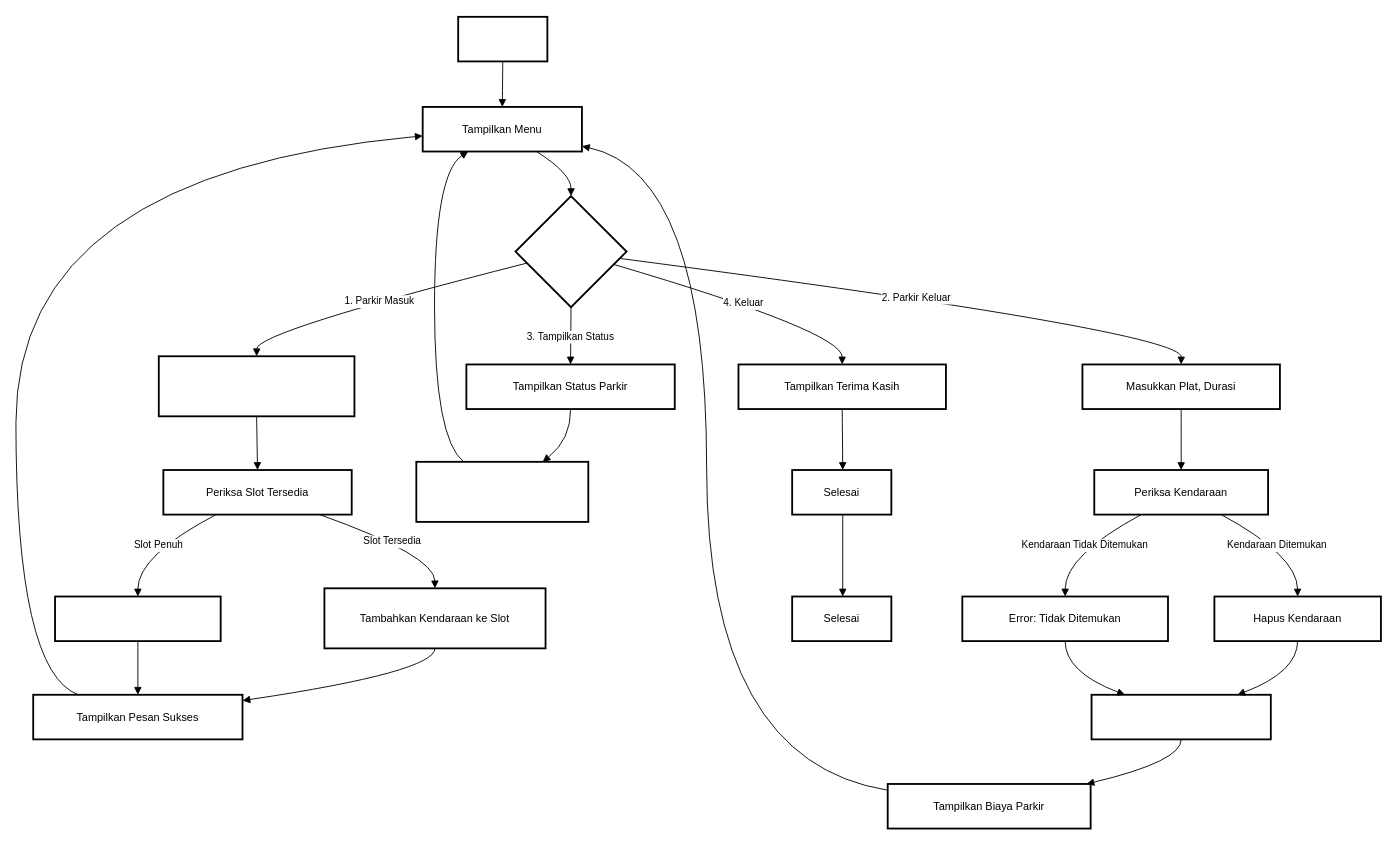
Image size: 1398x844. Some labels were removed from this diagram. Here are the shapes that lost their labels. From the top down, the centre of each, then its label:
At point (502, 38): "Mulai".
At point (570, 251): "Pilih Menu".
At point (256, 386): "Masukkan Jenis, Plat, Warna".
At point (502, 491): "Tampilkan Jumlah Kendaraan di Slot".
At point (137, 618): "Error: Slot Penuh".
At point (1180, 716): "Hitung Biaya Parkir".
